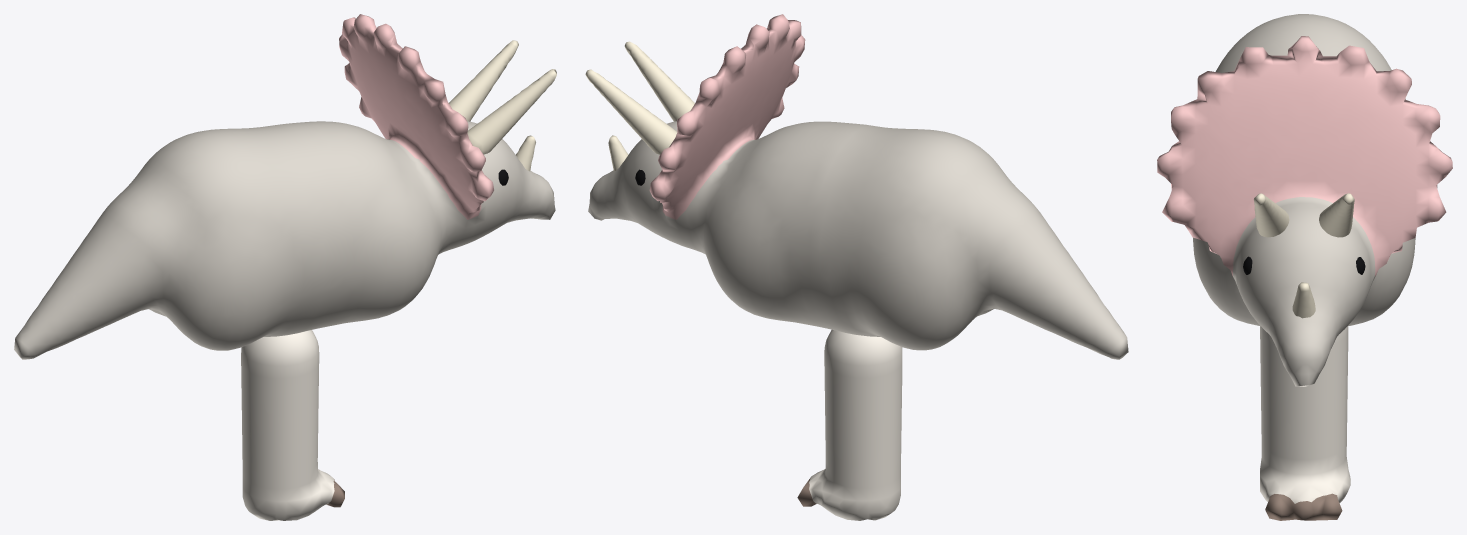
File: triceratops_adult.glb
3 renders of one model, left to right at view 1: azimuth 30°, elevation 25°; view 2: azimuth 150°, elevation 25°; view 3: azimuth 270°, elevation 25°, orthographic. The views are drawn at different scales.
Parts seen in each view (by area): view 1: body, leg, horn; view 2: body, leg, horn; view 3: body, leg, horn.
Boxes of the visible parts, x1,y1,x2,y2 form: body: [14, 14, 555, 359]; leg: [241, 330, 344, 520]; horn: [449, 40, 556, 171]; body: [588, 14, 1128, 359]; leg: [797, 329, 902, 520]; horn: [585, 41, 694, 171]; body: [1157, 14, 1452, 386]; leg: [1260, 326, 1350, 520]; horn: [1253, 193, 1354, 318].
Bounding box in the file's own units: 3.94 × 3.22 × 1.67.
